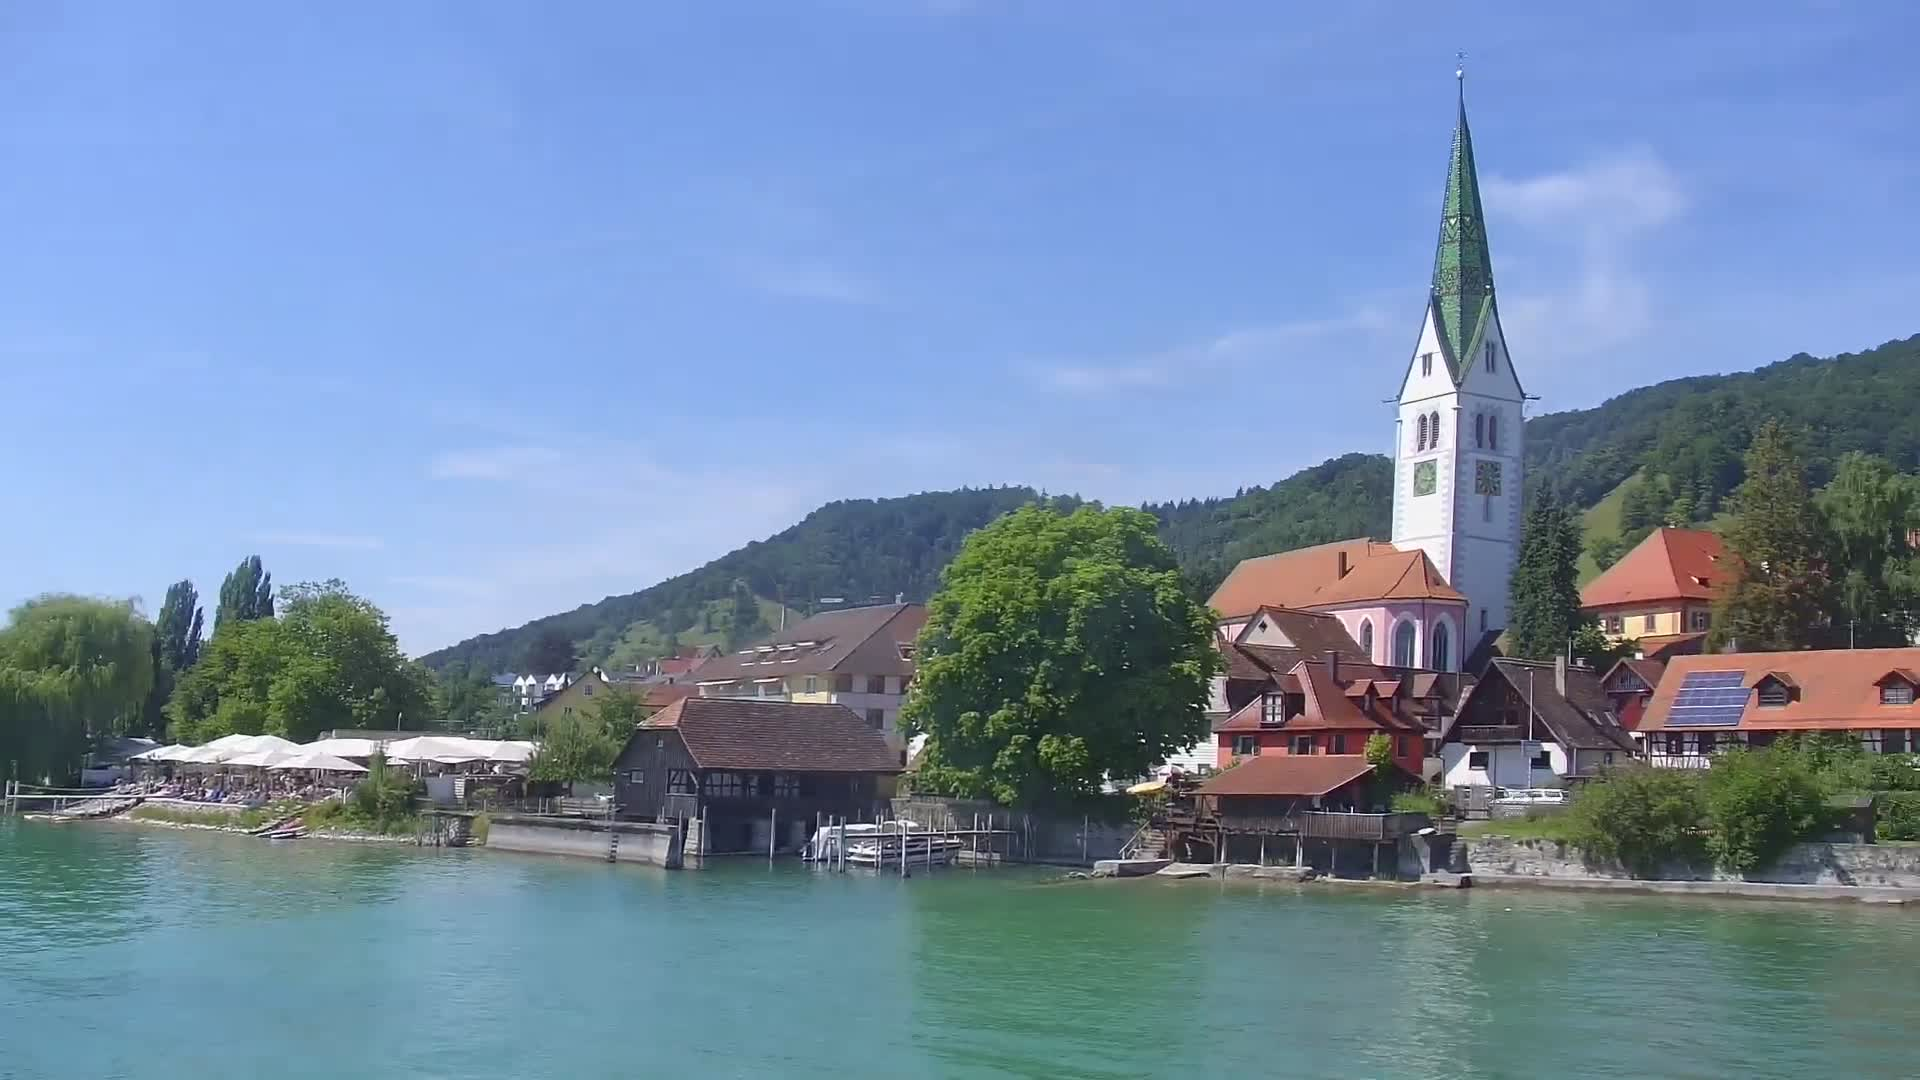sea: (798, 818, 920, 862), (843, 833, 967, 866)
